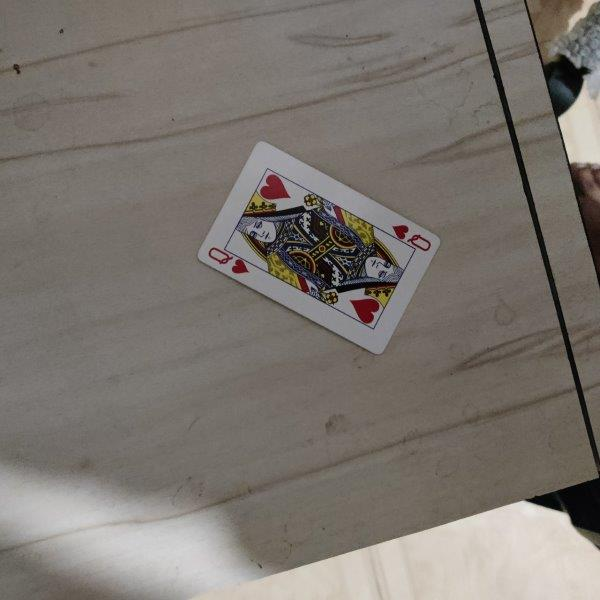Queen of Hearts: (198, 140, 442, 356)
